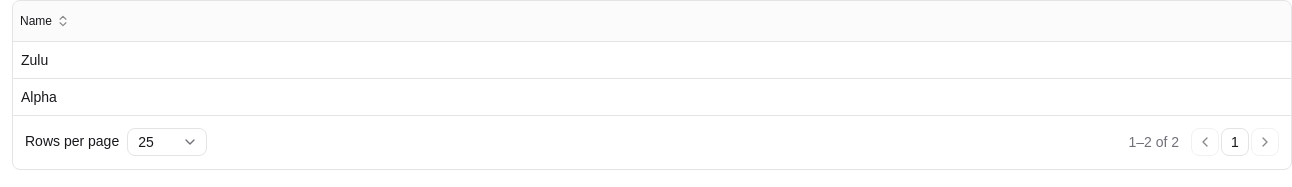
Test: DataTable sorting › retains local sorting for complete collections
Click the button "Name".
click(47, 21)  # box [13,7,81,35]
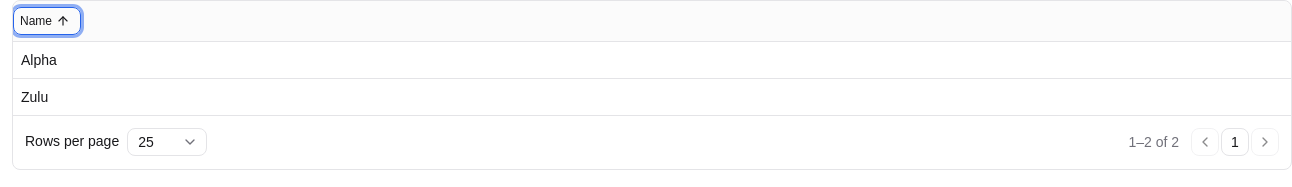
Result: the cells read "Alpha", "Zulu", in this order at [13,41,1291,78]; [13,78,1291,114]
